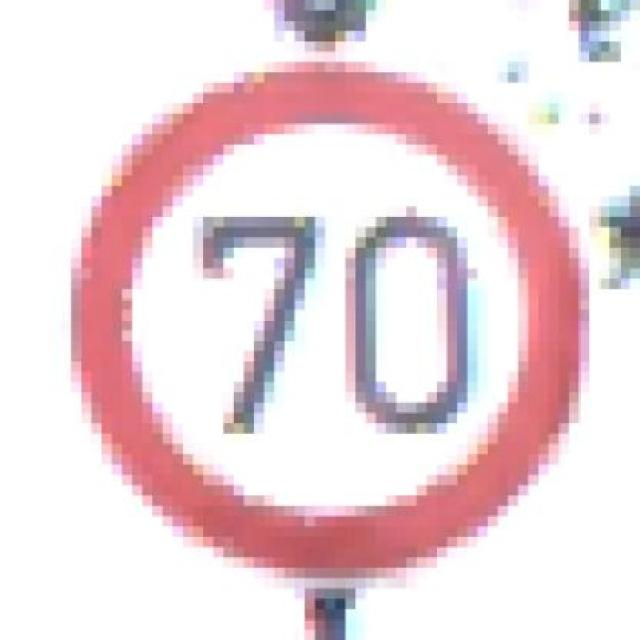forb_speed_over_70: (75, 59, 584, 576)
